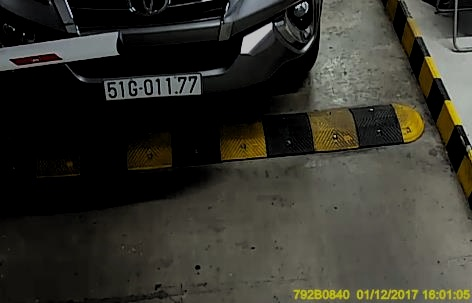plate: (103, 73, 206, 100)
